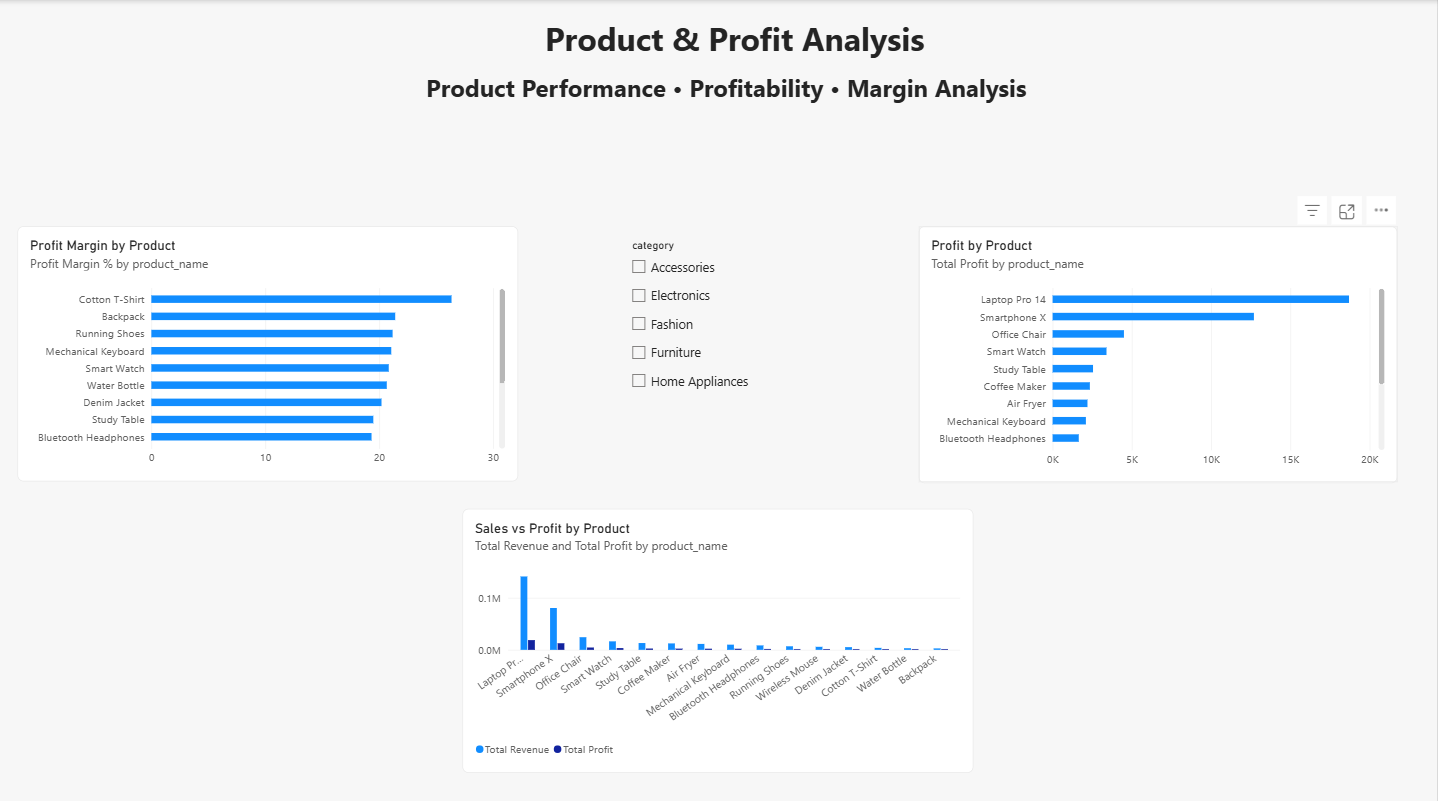

Layout of this report page (visuals, bound fields, positions):
{"tool":"powerbi","page":{"name":"Product & Profit Analysis","canvas":[1920,1080],"ordinal":3},"visuals":[{"type":"clusteredBarChart","title":"Profit by Product","fields":{"Category":["ecommerce_analytics products.product_name"],"Y":["ecommerce_analytics order_details.Total Profit"]},"box":[1226.6,302.3,639.5,343],"z":0},{"type":"clusteredColumnChart","title":"Sales vs Profit by Product","fields":{"Category":["ecommerce_analytics products.product_name"],"Y":["ecommerce_analytics order_details.Total Revenue","ecommerce_analytics order_details.Total Profit"]},"box":[618.2,680.2,682.1,352.7],"z":1},{"type":"clusteredBarChart","title":"Profit Margin by Product","fields":{"Category":["ecommerce_analytics products.product_name"],"Y":["ecommerce_analytics customers.Profit Margin %"]},"box":[23.3,302.3,668.6,341.1],"z":2},{"type":"textbox","box":[22,0,280,280],"z":3},{"type":"textbox","box":[22.1,22.1,1868.1,99.4],"z":4},{"type":"textbox","box":[22.1,95.7,1868.1,90.2],"z":5},{"type":"slicer","fields":{"Values":["ecommerce_analytics products.category"]},"box":[837.1,319.7,280,280],"z":6}]}

Visuals, with their boxes in screenshot pixels (x1, y1, x2, y2), scaled from the page's 1920x1080 canvas onto the 1438x801 screenshot:
"Profit by Product" clusteredBarChart: {"left": 919, "top": 224, "right": 1398, "bottom": 479}
"Sales vs Profit by Product" clusteredColumnChart: {"left": 463, "top": 504, "right": 974, "bottom": 766}
"Profit Margin by Product" clusteredBarChart: {"left": 17, "top": 224, "right": 518, "bottom": 477}
textbox: {"left": 16, "top": 0, "right": 226, "bottom": 208}
textbox: {"left": 17, "top": 16, "right": 1416, "bottom": 90}
textbox: {"left": 17, "top": 71, "right": 1416, "bottom": 138}
slicer - ecommerce_analytics products.category: {"left": 627, "top": 237, "right": 837, "bottom": 445}
